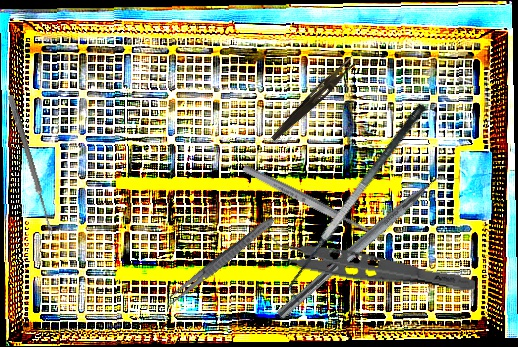Chopper: (275, 159, 463, 332)
Dressing Forceps: (163, 213, 278, 310), (269, 50, 361, 146)
Spatula Surgical: (275, 101, 443, 305)
Surgical Spoon: (241, 162, 386, 245), (6, 94, 56, 237)
Tissue Forceps: (265, 231, 479, 297)
